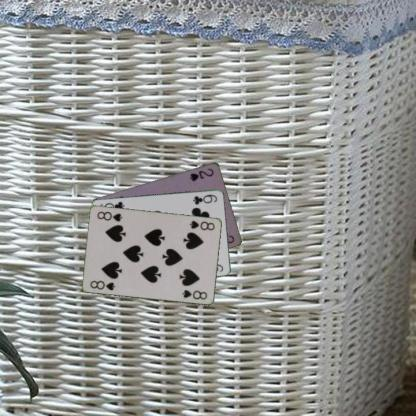2s: (187, 165, 215, 182)
6c: (191, 192, 218, 206)
8s: (188, 218, 216, 232), (88, 278, 117, 291)
